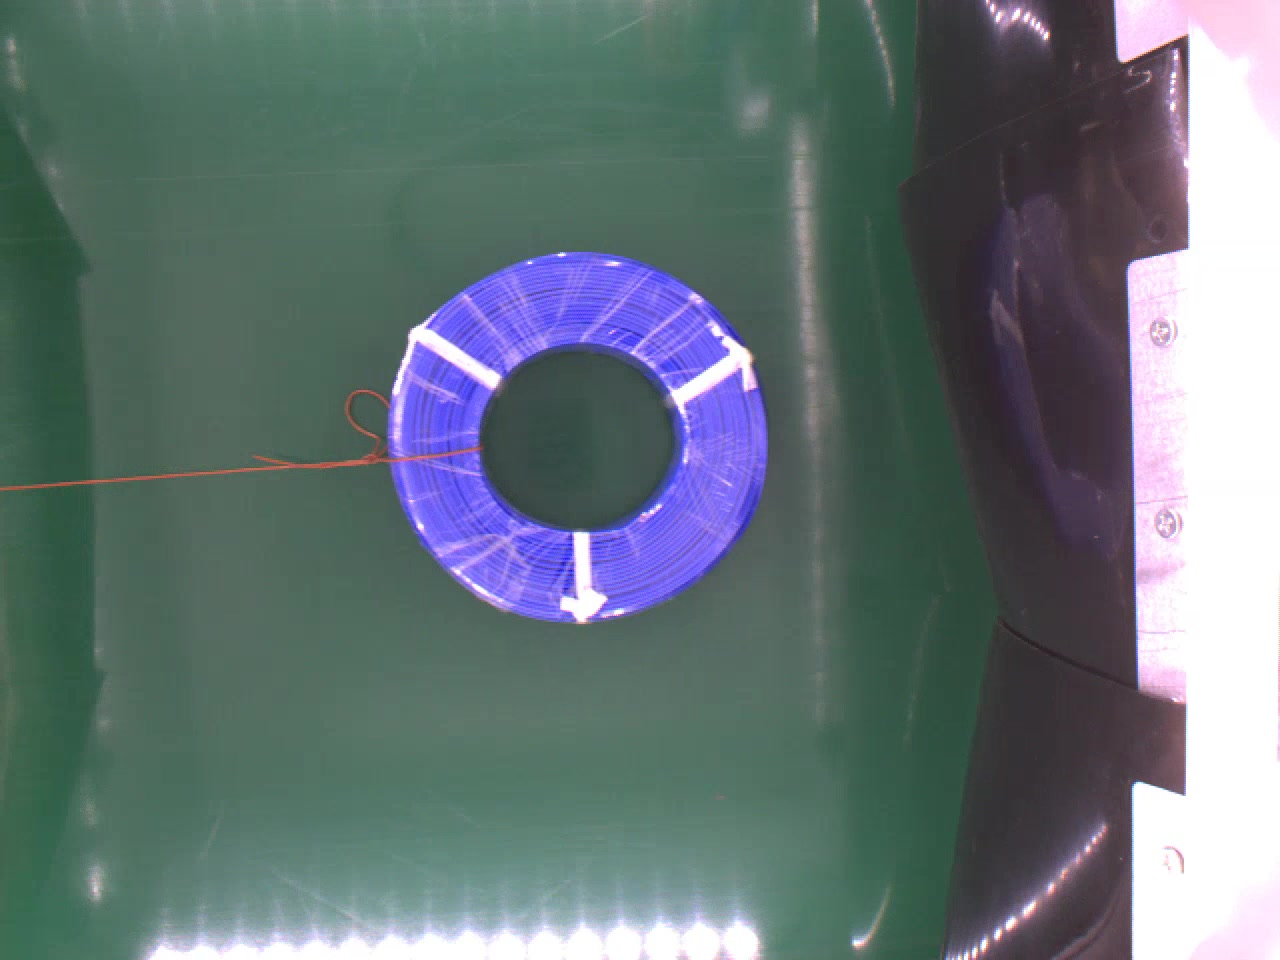blue: (388, 247, 769, 616)
